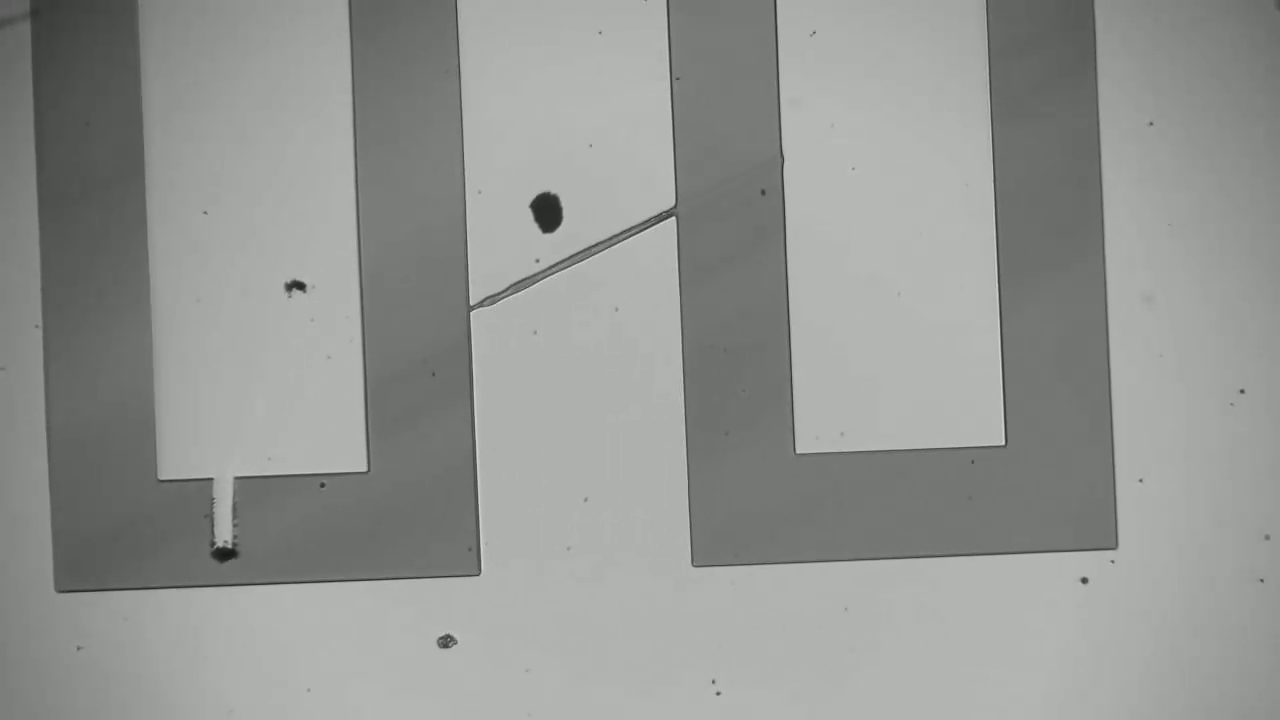Short_circuit: (189, 455, 265, 613)
